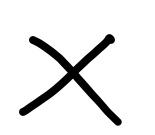mult: (19, 35, 122, 126)
